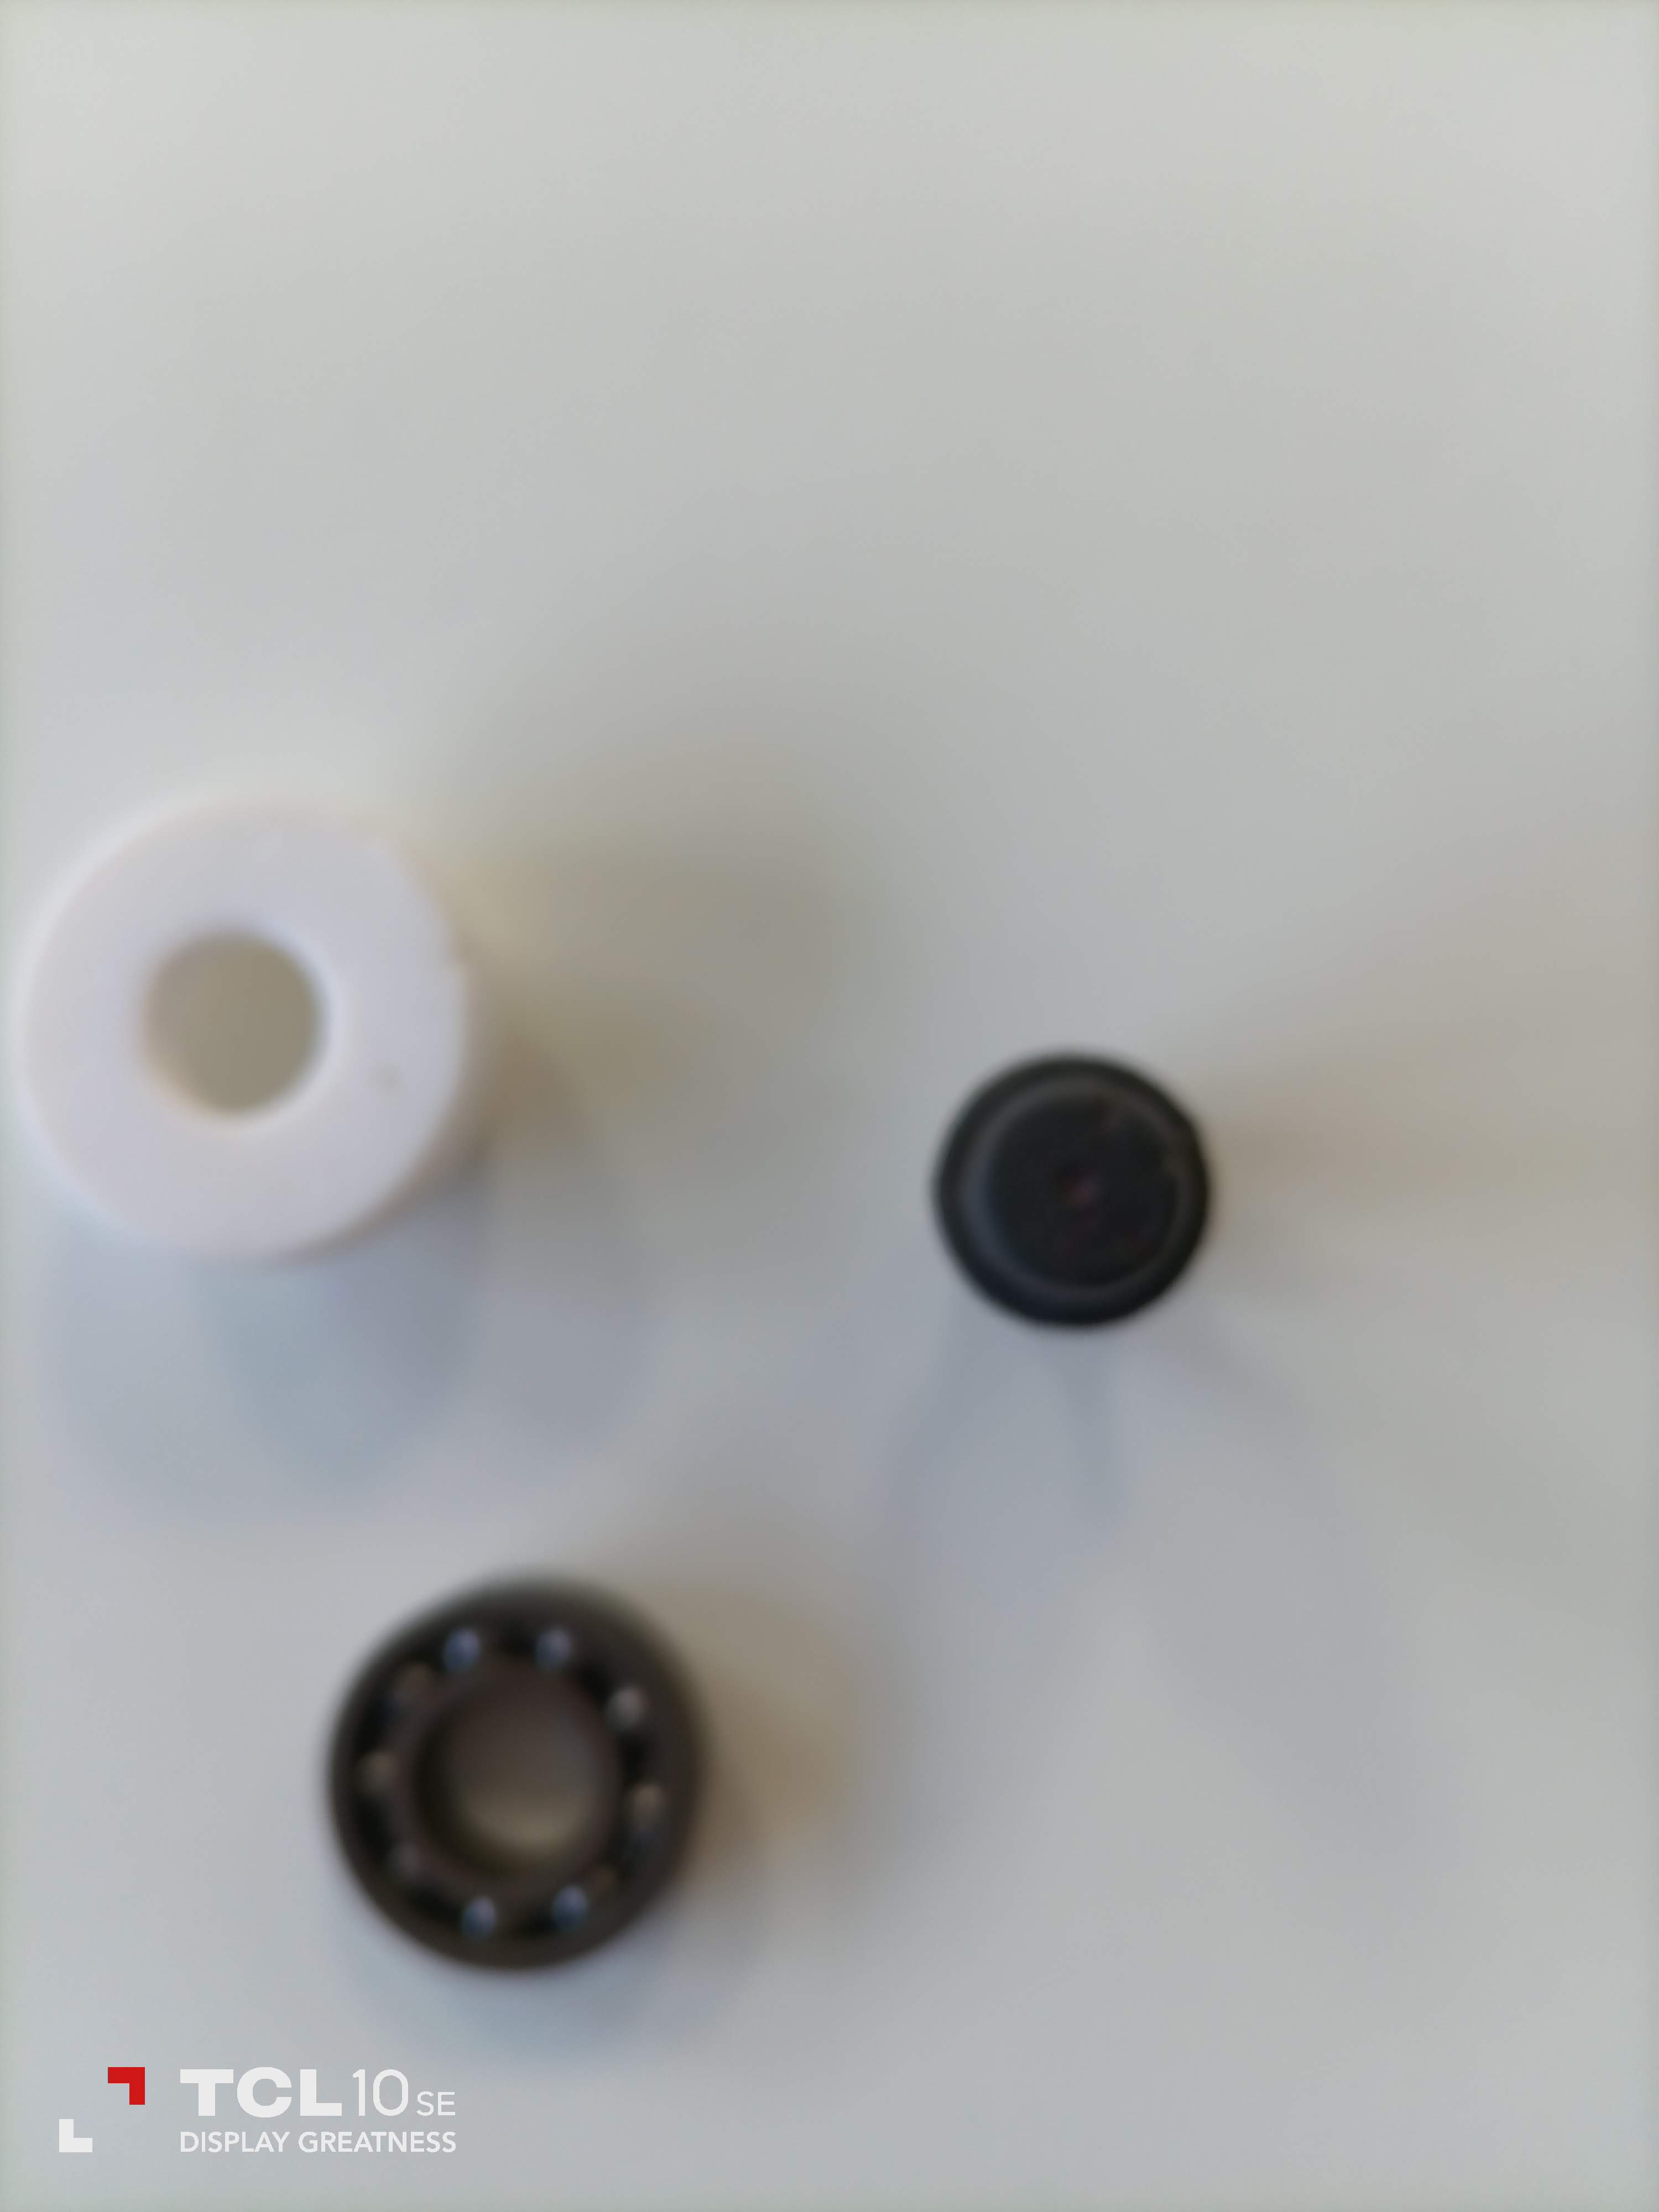Ardatza: (936, 1054, 1216, 1320)
Roda: (317, 1585, 727, 1975)
Tapa: (14, 792, 479, 1261)
